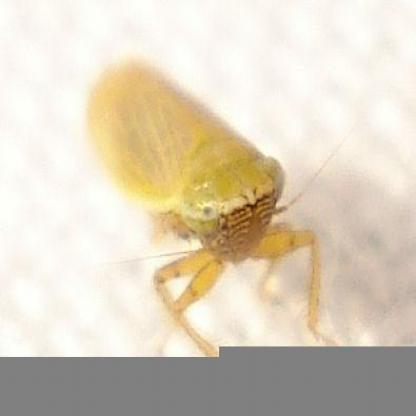green-leafhopper: (86, 54, 333, 358)
